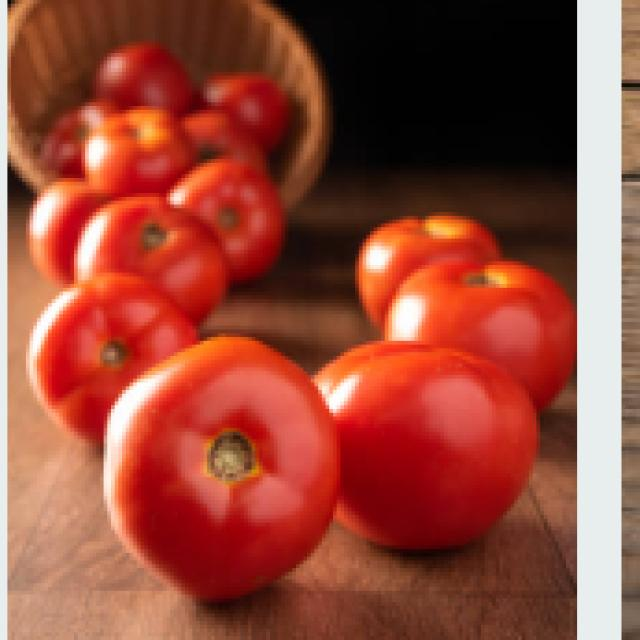Tomato: (111, 339, 351, 603), (303, 315, 548, 572), (34, 265, 220, 443), (379, 239, 578, 394)
